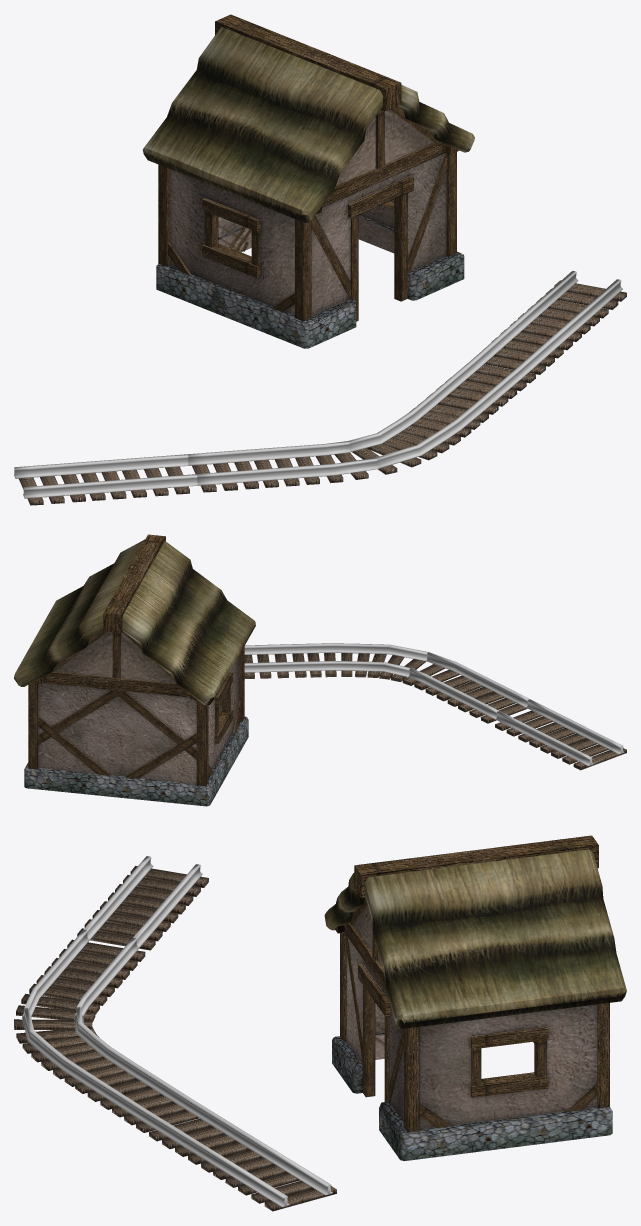
File: mine2.fbx
3 renders of one model, top to bottom at view 1: azimuth 30°, elevation 25°; view 2: azimuth 150°, elevation 25°; view 3: azimuth 270°, elevation 25°, orthographic. The views are drawn at different scales.
Visible parts, largest first — view 1: chatka2_telo, chatka2_strecha, koleje2_metal, koleje2_wood; view 2: chatka2_telo, chatka2_strecha, koleje2_metal, koleje2_wood; view 3: chatka2_telo, chatka2_strecha, koleje2_wood, koleje2_metal.
Part boxes in pixels (bbox=[...]): chatka2_telo: bbox=[156, 14, 464, 348]; chatka2_strecha: bbox=[142, 27, 474, 222]; koleje2_metal: bbox=[14, 271, 622, 498]; koleje2_wood: bbox=[19, 280, 626, 505]; chatka2_telo: bbox=[24, 534, 248, 806]; chatka2_strecha: bbox=[14, 539, 255, 705]; koleje2_metal: bbox=[244, 643, 624, 766]; koleje2_wood: bbox=[244, 653, 626, 770]; chatka2_telo: bbox=[332, 835, 612, 1160]; chatka2_strecha: bbox=[324, 849, 626, 1028]; koleje2_wood: bbox=[14, 866, 336, 1211]; koleje2_metal: bbox=[22, 856, 332, 1207].
Size of the model in its own units: 4.93 by 1.63 by 3.73.
